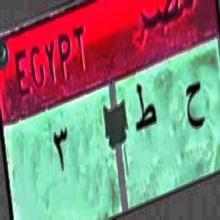3: (51, 118, 71, 189)
7aa: (184, 73, 204, 138)
Taa: (133, 70, 158, 149)
